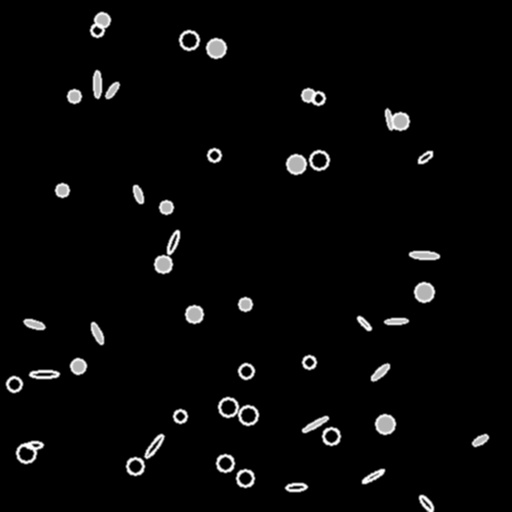pseudomonas: (142, 432, 166, 460), (302, 415, 328, 433), (369, 362, 391, 382), (361, 468, 385, 484), (165, 230, 181, 254), (89, 322, 105, 344), (104, 80, 120, 100), (356, 314, 372, 332), (418, 494, 434, 512), (416, 149, 434, 165), (131, 184, 145, 204), (23, 318, 45, 330), (471, 433, 489, 447), (409, 251, 439, 259), (384, 109, 394, 129), (94, 70, 100, 98), (30, 371, 58, 377), (286, 483, 306, 491), (384, 318, 408, 324), (26, 442, 42, 448)
synechocystis: (219, 398, 237, 416), (17, 444, 35, 462), (376, 415, 394, 433), (239, 406, 257, 424), (415, 283, 433, 301), (207, 39, 225, 57), (287, 155, 305, 173), (180, 31, 198, 49), (310, 151, 328, 169), (392, 113, 408, 129), (217, 455, 233, 471), (323, 428, 339, 444), (155, 256, 171, 272), (237, 470, 253, 486), (127, 458, 143, 474), (186, 306, 202, 322), (95, 13, 109, 27), (239, 364, 253, 378), (7, 377, 21, 391), (71, 359, 85, 373), (303, 356, 315, 368), (239, 298, 251, 310), (68, 90, 80, 102), (174, 410, 186, 422), (56, 184, 68, 196), (302, 89, 314, 101), (208, 149, 220, 161), (160, 201, 172, 213), (312, 92, 324, 104), (91, 24, 103, 36)
